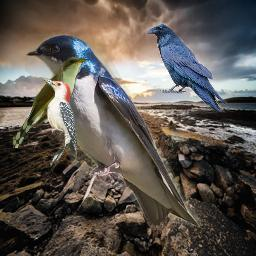Crow: (145, 23, 227, 111)
Cuckoo: (13, 57, 87, 148)
Swallow: (25, 34, 202, 230)
Woodpecker: (41, 77, 77, 167)
